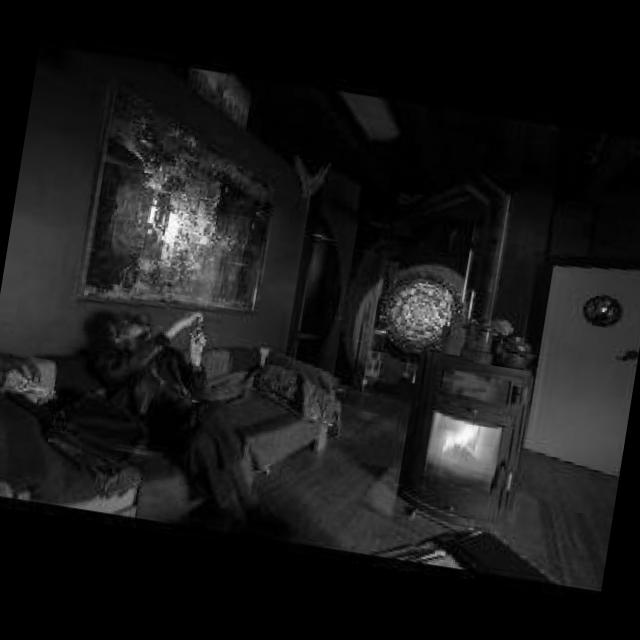fire: (428, 415, 498, 473)
